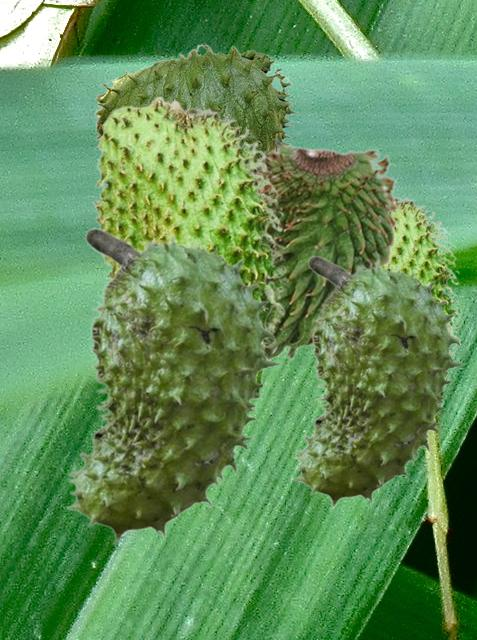guyabano: (64, 227, 283, 545), (90, 95, 288, 401), (291, 255, 466, 509), (255, 136, 399, 361), (94, 43, 297, 161), (385, 196, 462, 404)
